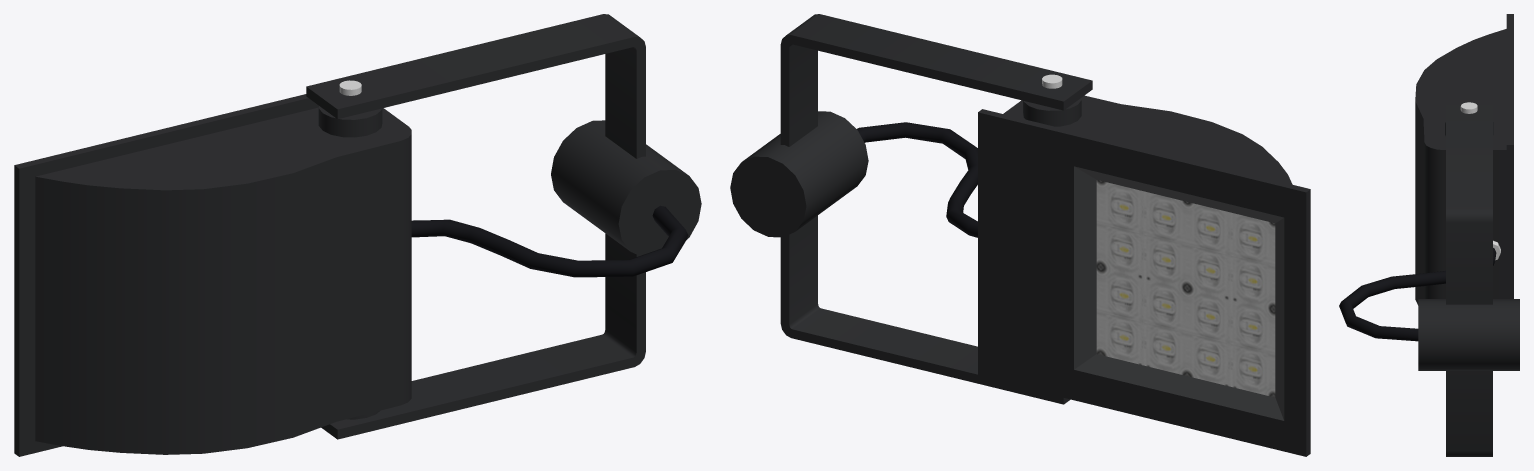
The model's file is Moritz_I.obj.
The picture shows the model from 3 angles, left to right: view 1: azimuth 30°, elevation 25°; view 2: azimuth 150°, elevation 25°; view 3: azimuth 270°, elevation 25°; orthographic projection. The views are drawn at different scales.
Parts seen in each view (by area): view 1: Gehaeuse.001_Mesh.001, Halterung.001_BezierCurve.005, Mastrohr.001_Cylinder.003, Kabel.002_BezierCurve.003, Halteringe.001_BezierCurve.006; view 2: Gehaeuse.001_Mesh.001, Halterung.001_BezierCurve.005, Mastrohr.001_Cylinder.003, Kabel.002_BezierCurve.003, Halteringe.001_BezierCurve.006; view 3: Gehaeuse.001_Mesh.001, Halterung.001_BezierCurve.005, Mastrohr.001_Cylinder.003, Kabel.002_BezierCurve.003, Halteringe.001_BezierCurve.006.
Part boxes in pixels (bbox=[...]): Gehaeuse.001_Mesh.001: bbox=[14, 94, 411, 456]; Halterung.001_BezierCurve.005: bbox=[306, 14, 645, 439]; Mastrohr.001_Cylinder.003: bbox=[551, 120, 701, 255]; Kabel.002_BezierCurve.003: bbox=[411, 205, 688, 277]; Halteringe.001_BezierCurve.006: bbox=[318, 80, 382, 419]; Gehaeuse.001_Mesh.001: bbox=[978, 95, 1310, 456]; Halterung.001_BezierCurve.005: bbox=[780, 14, 1092, 404]; Mastrohr.001_Cylinder.003: bbox=[730, 111, 868, 237]; Kabel.002_BezierCurve.003: bbox=[857, 122, 977, 237]; Halteringe.001_BezierCurve.006: bbox=[1023, 74, 1081, 126]; Gehaeuse.001_Mesh.001: bbox=[1415, 14, 1513, 305]; Halterung.001_BezierCurve.005: bbox=[1446, 100, 1492, 456]; Mastrohr.001_Cylinder.003: bbox=[1418, 299, 1519, 370]; Kabel.002_BezierCurve.003: bbox=[1339, 248, 1496, 341]; Halteringe.001_BezierCurve.006: bbox=[1445, 102, 1493, 135].
Size of the model in its own units: 0.6378 by 0.3345 by 0.2137.
Materials: 5 (4 with a texture image).
